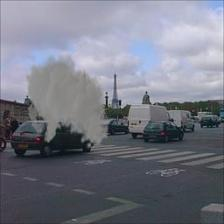fire: (25, 50, 109, 149)
